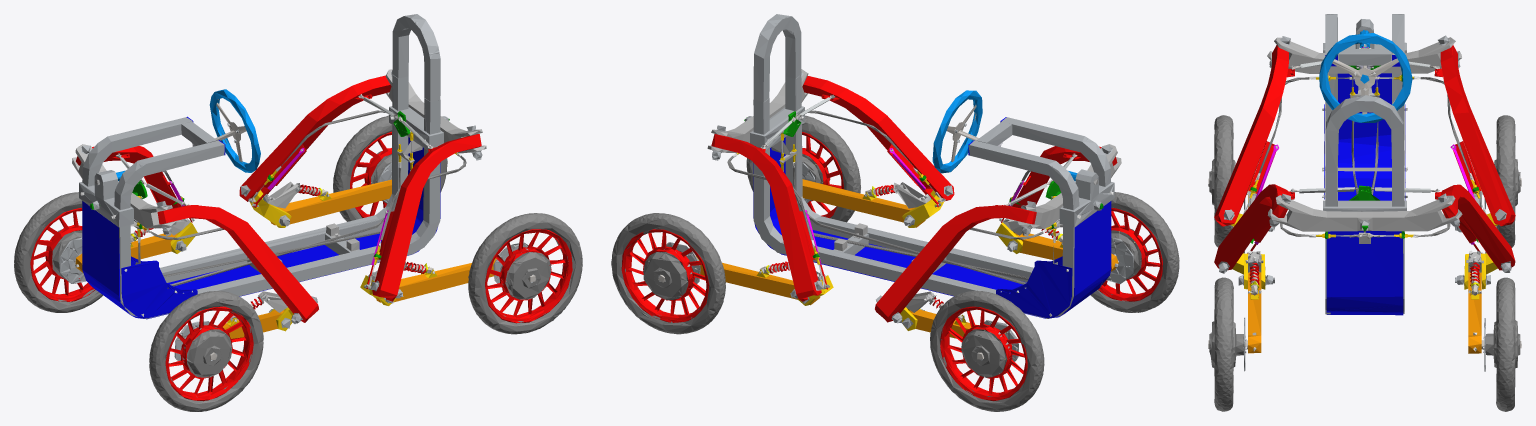
Rendered from swincar_collision.dae.
The picture shows the model from 3 angles, left to right: view 1: azimuth 30°, elevation 25°; view 2: azimuth 150°, elevation 25°; view 3: azimuth 270°, elevation 25°; orthographic projection. The views are drawn at different scales.
Visible parts, largest first — view 1: node476; view 2: node476; view 3: node476.
Part boxes in pixels (x1,y1,x2,y2): node476: (14,14,582,411); node476: (611,14,1179,411); node476: (1208,14,1521,411).
Size of the model in its own units: 1.94 by 1.18 by 1.19.
